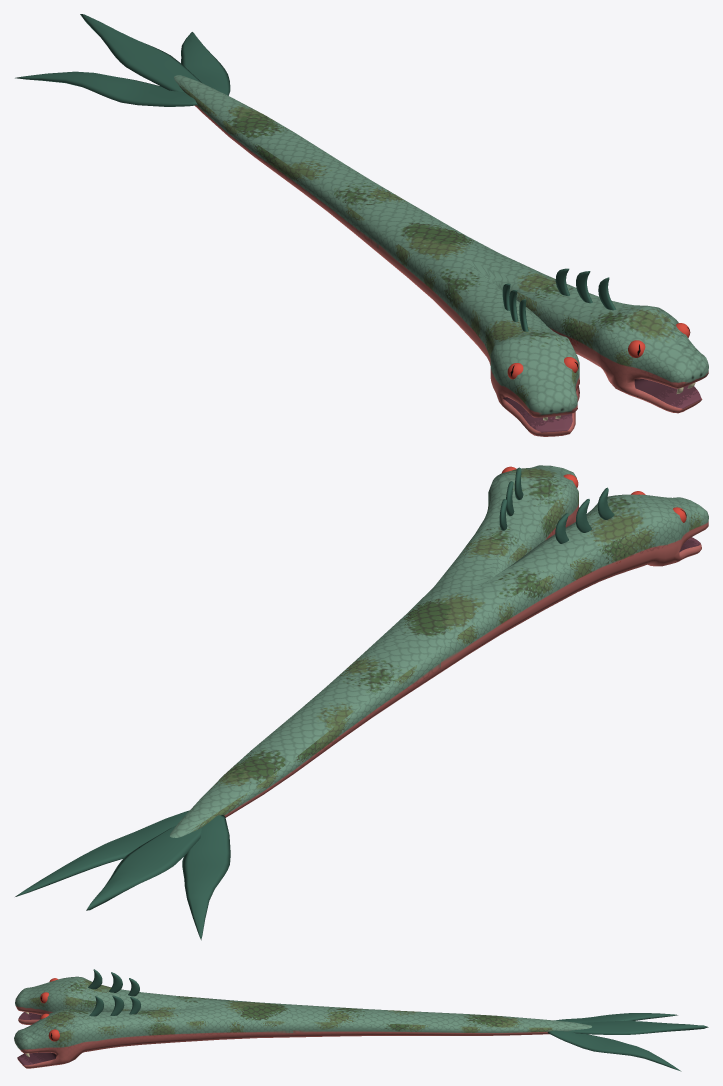
Rendered from Snake - Copy.fbx.
3 renders of one model, top to bottom at view 1: azimuth 30°, elevation 25°; view 2: azimuth 150°, elevation 25°; view 3: azimuth 270°, elevation 25°, orthographic. The views are drawn at different scales.
Parts seen in each view (by area): view 1: Snake3; view 2: Snake3; view 3: Snake3.
Part boxes in pixels (bbox=[...]): Snake3: bbox=[15, 14, 708, 436]; Snake3: bbox=[15, 465, 708, 940]; Snake3: bbox=[14, 969, 708, 1071].
Size of the model in its own units: 61.4 by 30.5 by 304.
